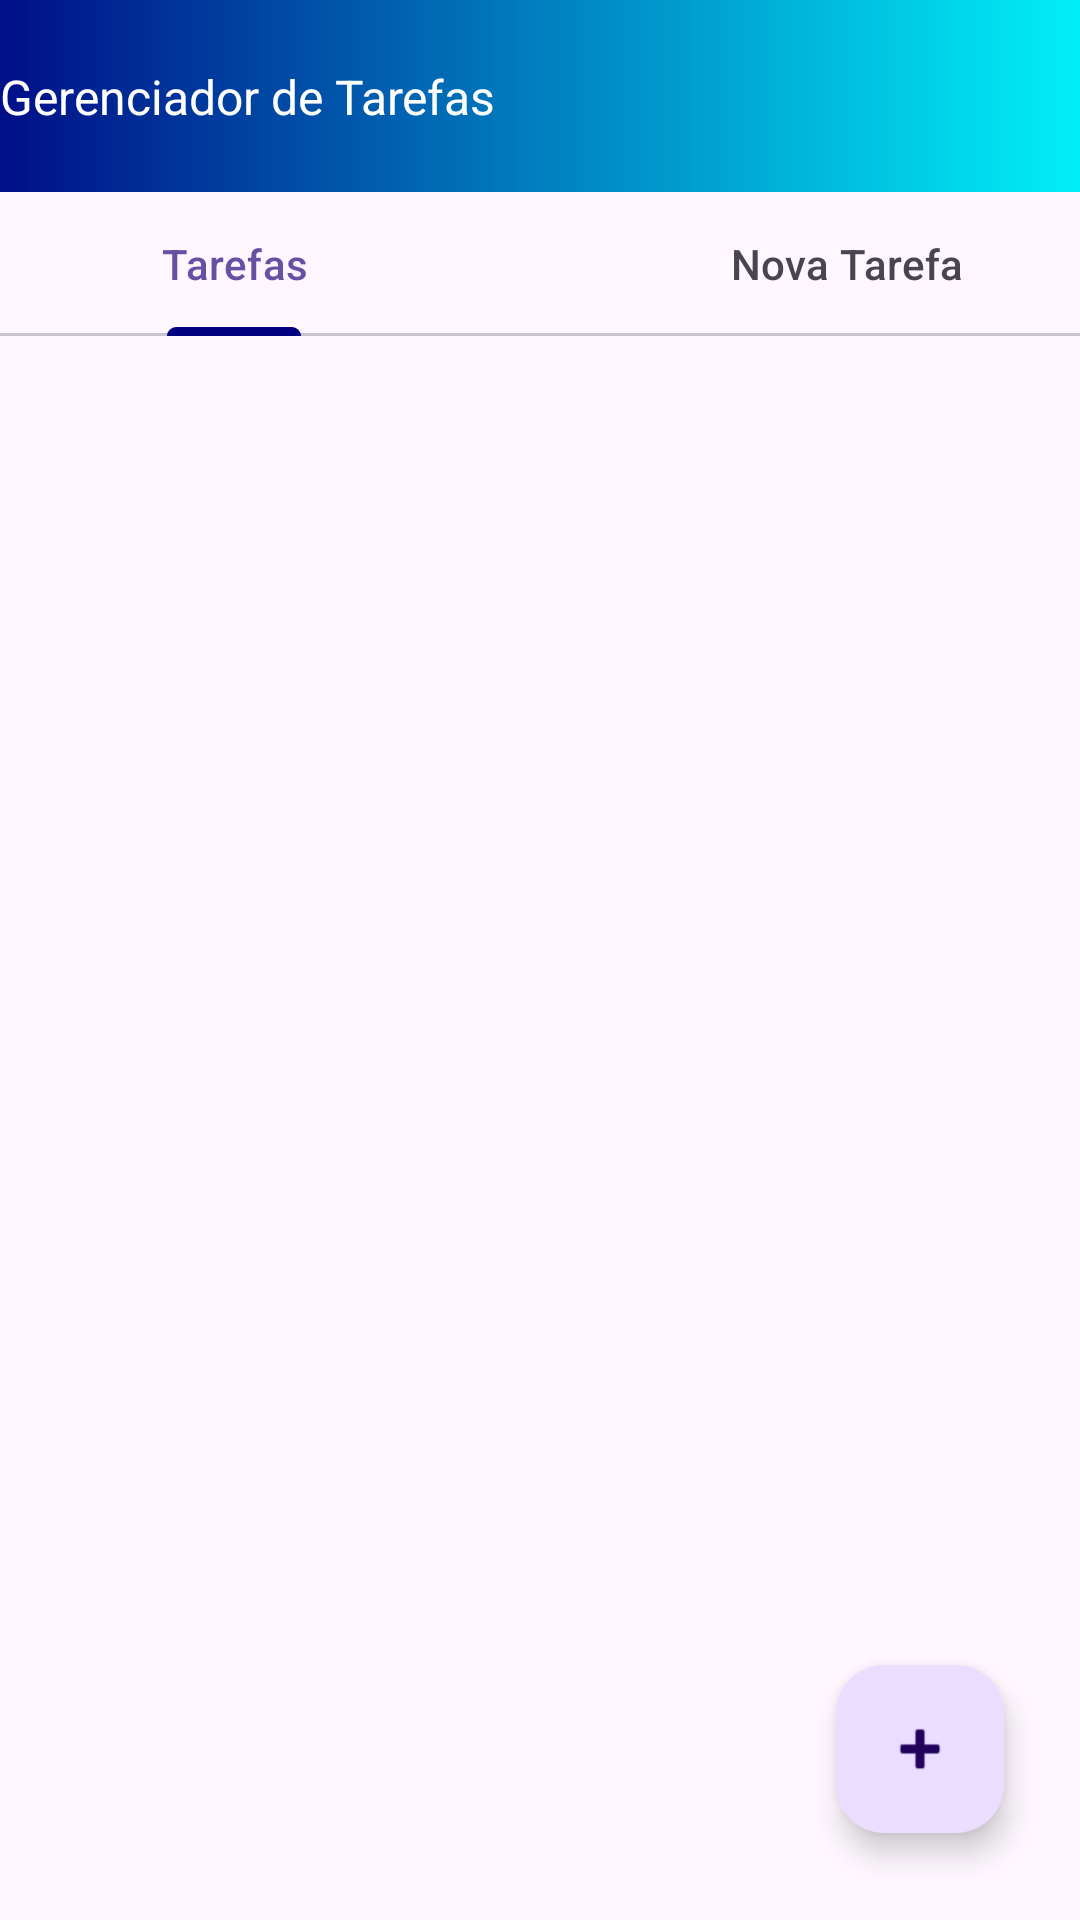

Icon bounding boxes for this 1080w x 1920h phone screenshot, format (x1, y1, x2, y2):
Adicionar tarefa: (836, 1665, 1004, 1833)
